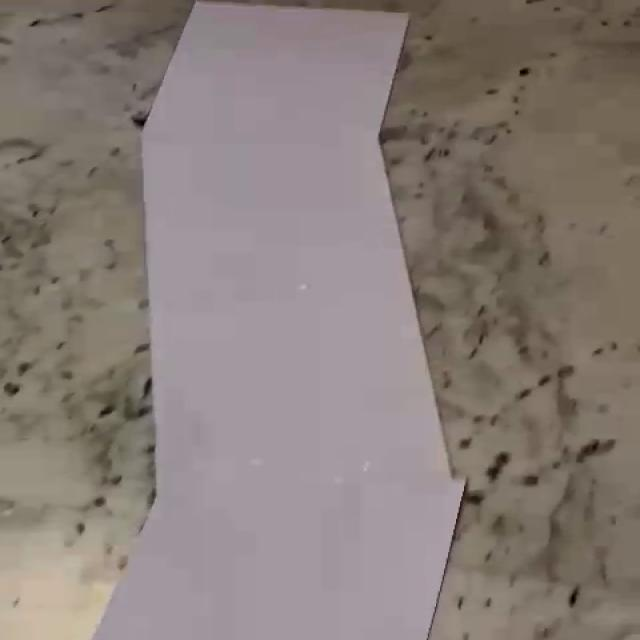road: (93, 2, 464, 640)
